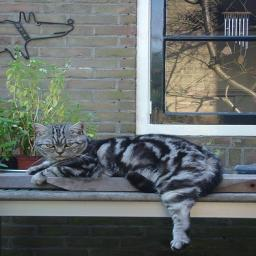catnose: (56, 150, 66, 156)
